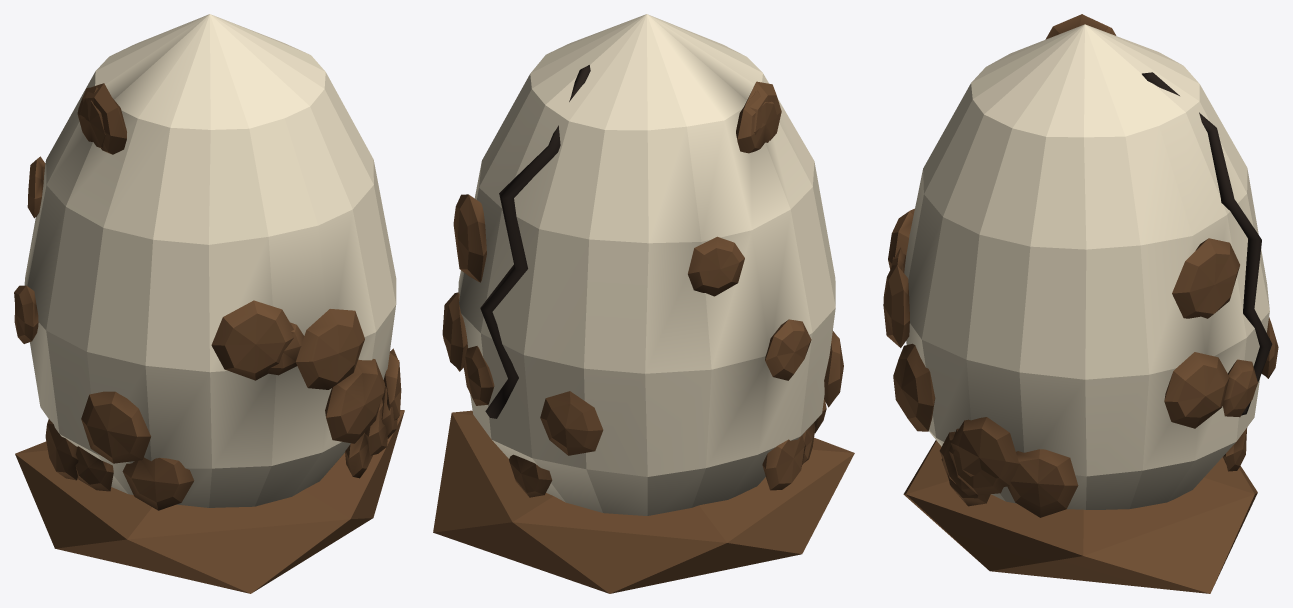
Rendered from find_egg.glb.
3 views of the same model, side by side, from view 1: azimuth 30°, elevation 25°; view 2: azimuth 150°, elevation 25°; view 3: azimuth 270°, elevation 25° (orthographic). The views are drawn at different scales.
Parts seen in each view (by area): view 1: Egg; view 2: Egg; view 3: Egg.
Boxes of the visible parts, x1,y1,x2,y2 form: Egg: (14,14,404,593); Egg: (433,14,854,593); Egg: (883,14,1278,593).
Size of the model in its own units: 0.2917 by 0.413 by 0.2749.
